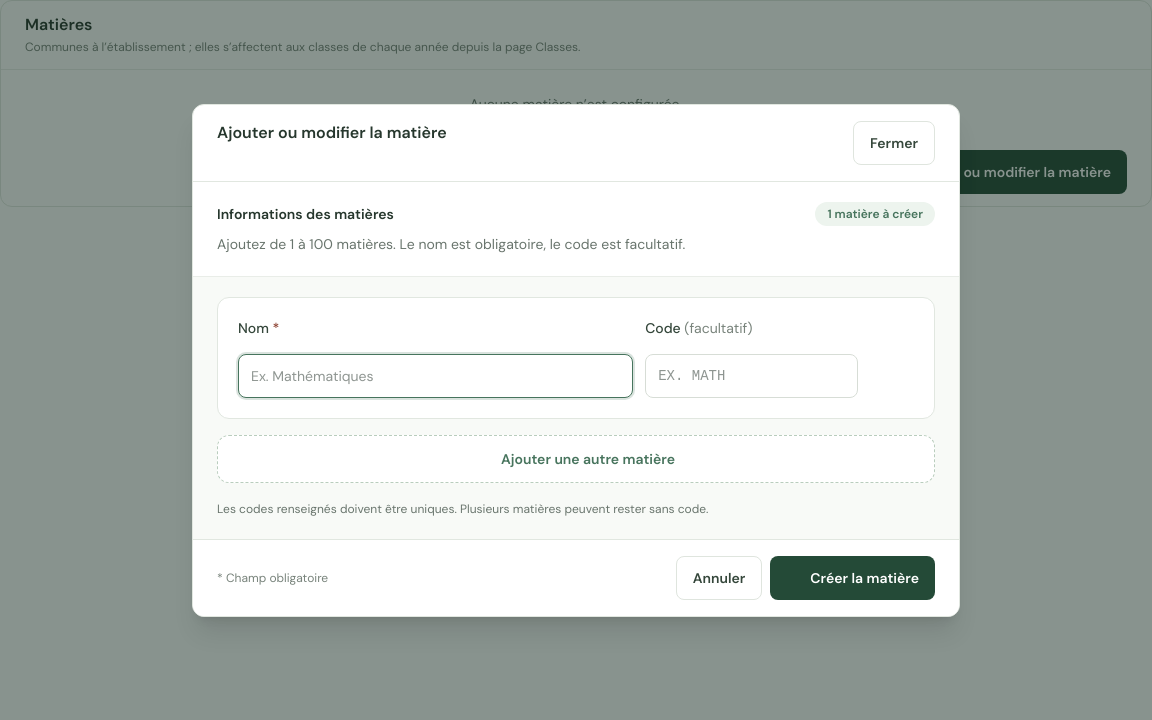
it: SubjectListComponent › confirme la création par un toast et ferme la modale
The image size is (1152, 720).
Type "Mathématiques" into the field with id "subject-name" at (436, 376), box [238,354,633,398]
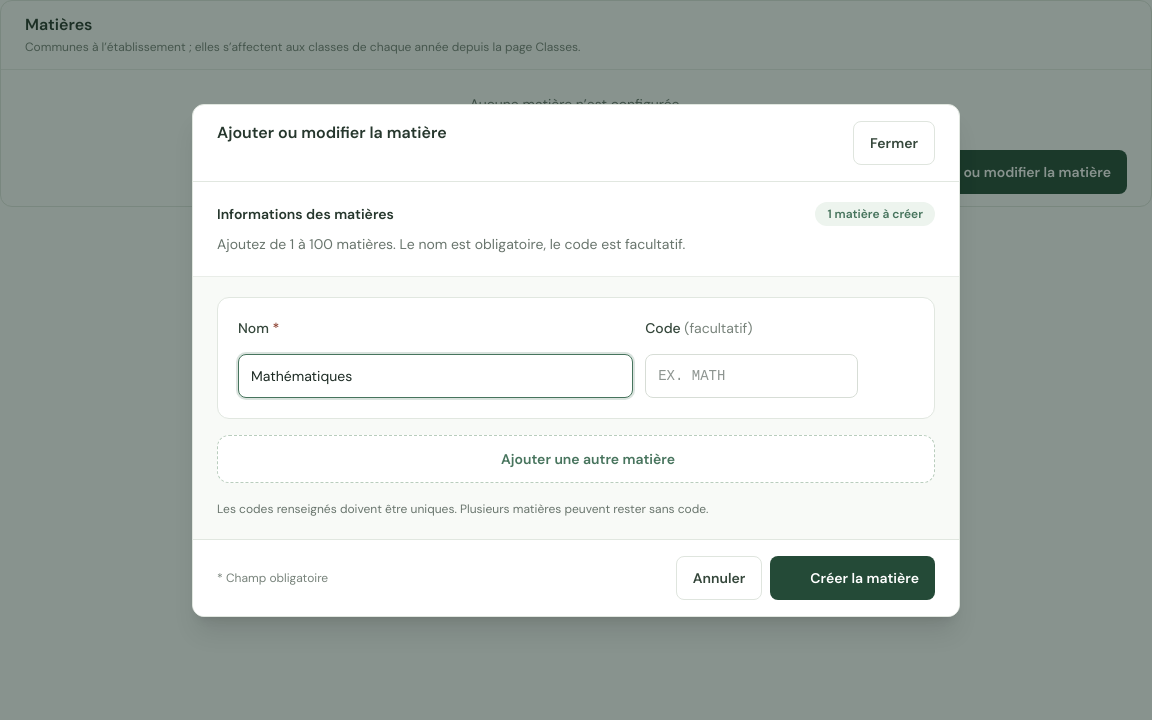
Type "MATH" into the field with id "subject-code" at (752, 376), box [645,354,858,398]
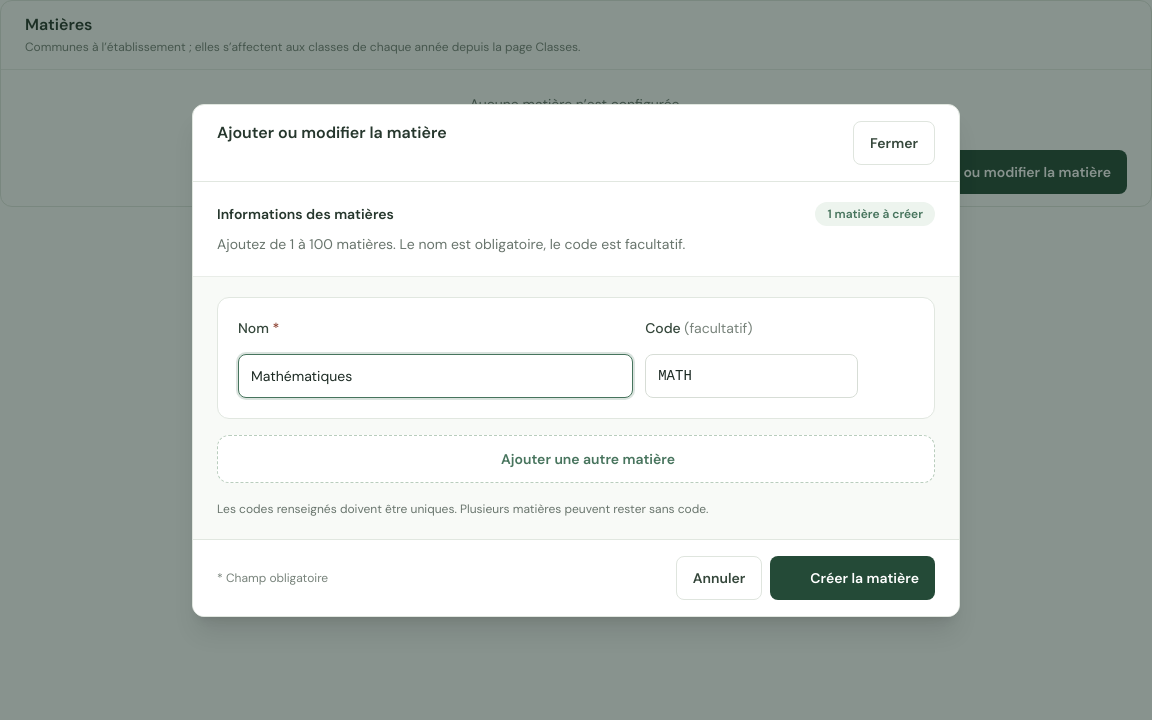
Submit the form, box [193,182,959,616]
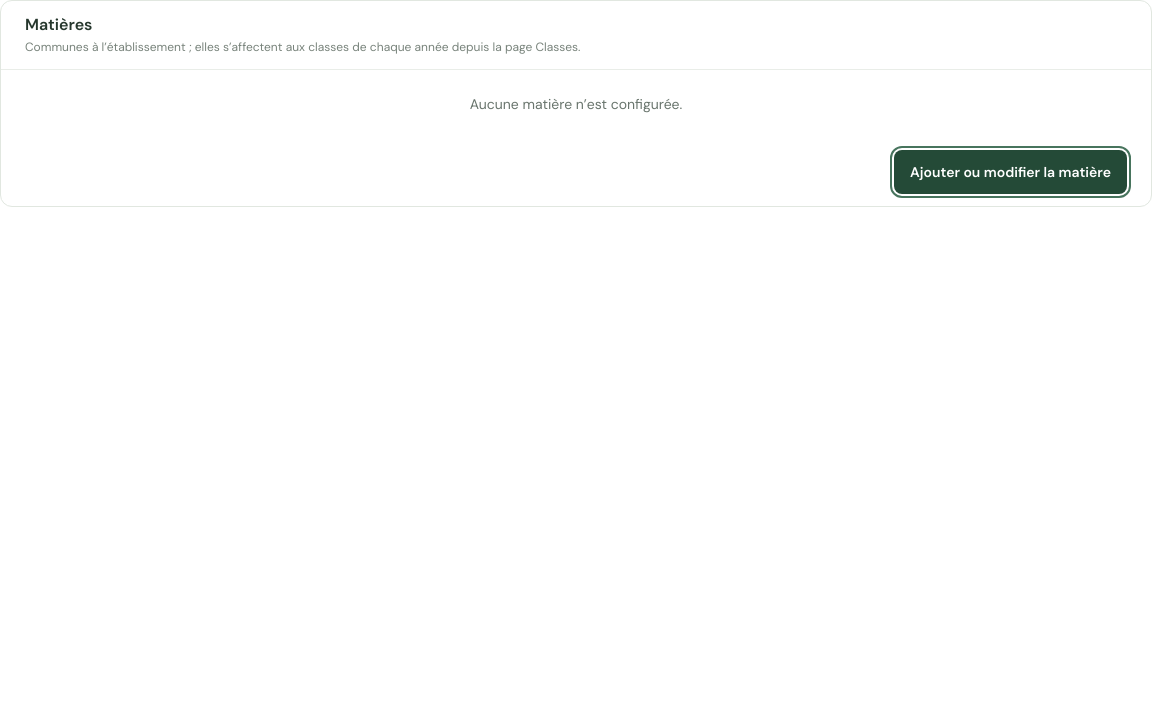
expect the dialog is gone: met
